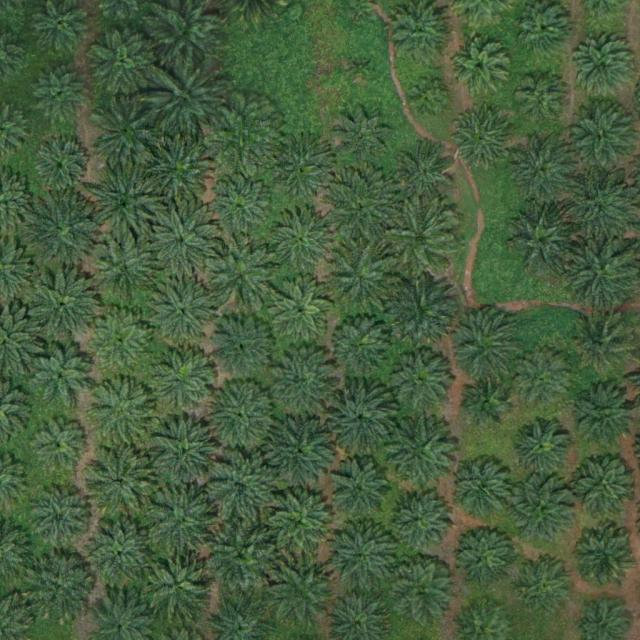Healthy: (29, 197, 100, 268), (270, 345, 341, 416), (265, 414, 336, 485), (384, 203, 455, 274), (449, 312, 520, 383), (569, 450, 640, 521), (505, 475, 576, 546), (86, 521, 157, 592), (569, 105, 640, 175), (209, 101, 279, 172), (154, 63, 224, 134), (93, 99, 163, 170), (28, 271, 98, 342), (90, 171, 160, 242), (141, 135, 212, 205), (147, 209, 217, 280), (205, 174, 276, 244), (208, 240, 278, 311), (206, 312, 277, 382), (265, 131, 335, 202), (267, 203, 337, 274), (327, 173, 397, 244), (325, 241, 395, 312), (387, 274, 457, 345), (386, 346, 456, 417), (387, 419, 457, 490), (508, 206, 578, 277), (565, 174, 635, 245), (568, 239, 638, 310), (268, 559, 338, 630), (149, 489, 219, 560), (143, 551, 213, 622), (25, 555, 95, 626), (328, 103, 398, 173), (89, 28, 159, 98), (91, 235, 161, 305), (88, 379, 158, 449), (83, 447, 153, 517), (147, 279, 217, 349), (151, 419, 221, 489), (206, 383, 276, 453), (206, 453, 276, 523), (326, 379, 396, 449), (329, 524, 399, 594), (267, 490, 337, 560), (207, 522, 277, 592), (574, 315, 637, 378), (449, 34, 512, 97), (450, 108, 513, 171), (392, 2, 455, 65), (30, 487, 93, 550), (329, 459, 392, 522), (572, 527, 635, 590), (452, 524, 515, 587), (390, 559, 453, 622), (574, 33, 636, 96), (512, 142, 574, 205), (29, 344, 91, 407), (89, 311, 151, 374), (151, 348, 213, 411), (270, 278, 332, 341), (392, 144, 454, 207), (516, 556, 578, 619), (390, 489, 452, 552), (330, 313, 392, 375), (448, 459, 510, 521), (512, 348, 574, 410), (510, 418, 572, 480), (514, 73, 569, 128), (33, 67, 88, 122), (36, 140, 91, 195), (34, 419, 89, 474), (462, 377, 509, 424)
Small: (409, 78, 449, 118), (348, 57, 371, 81)
